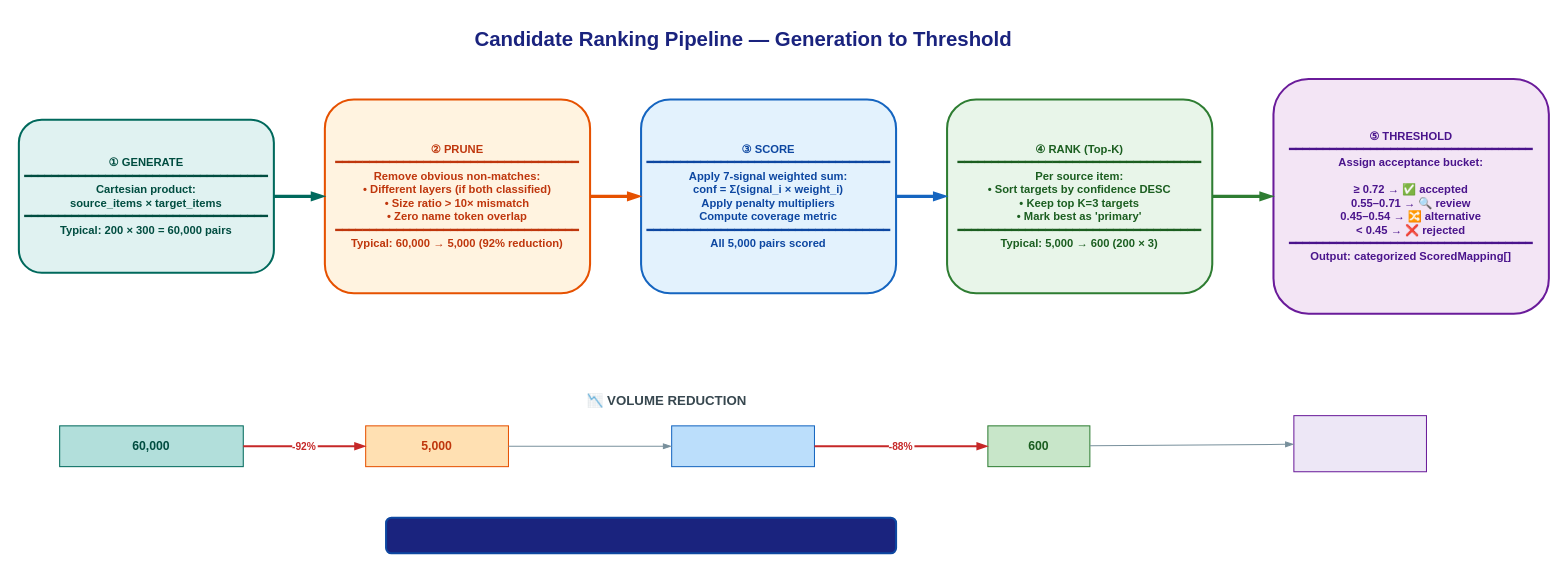
Some shapes in this 1567 by 571 pixel diagram are drawn without their labels. Each missing label, with the centre of its shape:
"5,000 (scored)" goes at point (742, 446).
"Total reduction: 60,000 → 600 final mappings = 99% eliminated" goes at point (641, 535).
"~450 accepted ~100 review ~50 rejected" goes at point (1359, 443).
